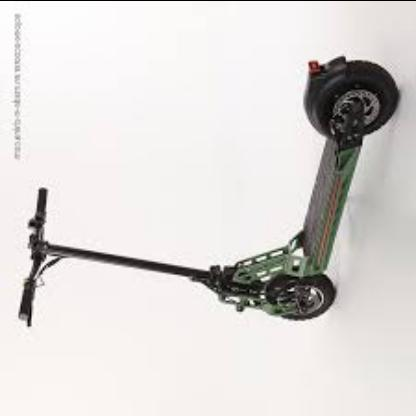bike: (18, 57, 400, 323)
